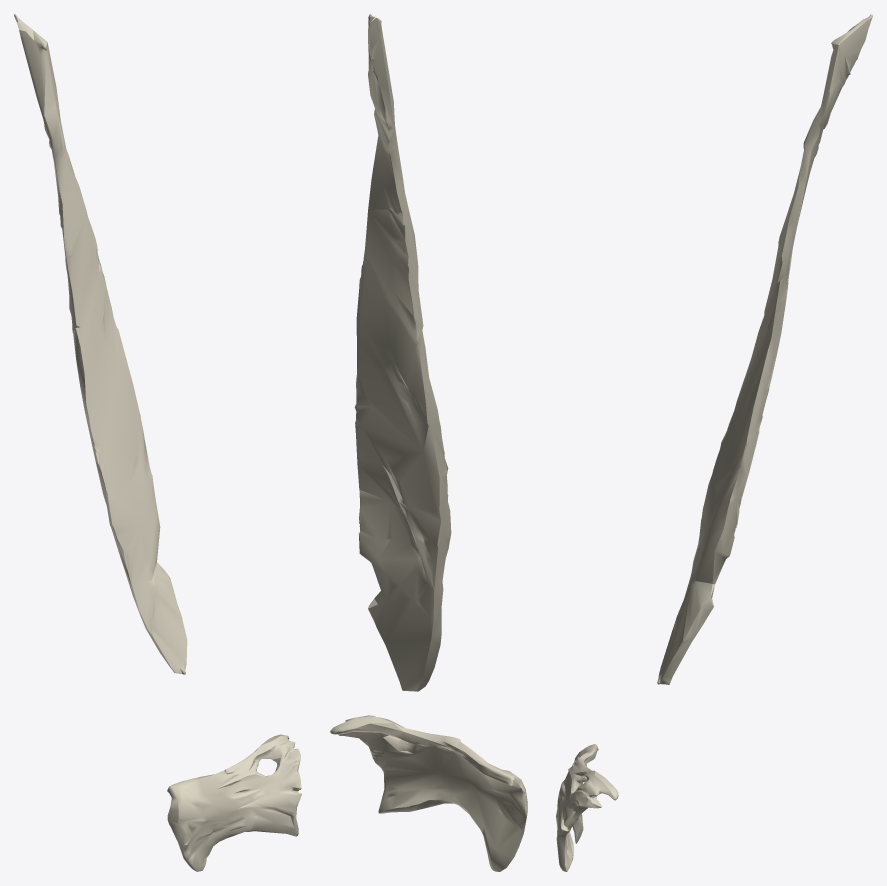
The model's file is joints.upper_limb_left.glb.
3 renders of one model, left to right at view 1: azimuth 30°, elevation 25°; view 2: azimuth 150°, elevation 25°; view 3: azimuth 270°, elevation 25°, orthographic. The views are drawn at different scales.
Visible parts, largest first — view 1: interosseous_membrane_of_left_forearm, flexor_retinaculum_of_left_wrist; view 2: interosseous_membrane_of_left_forearm, flexor_retinaculum_of_left_wrist; view 3: interosseous_membrane_of_left_forearm, flexor_retinaculum_of_left_wrist.
Boxes of the visible parts, x1=… form: interosseous_membrane_of_left_forearm: x1=14, y1=14, x2=187, y2=674; flexor_retinaculum_of_left_wrist: x1=167, y1=734, x2=301, y2=871; interosseous_membrane_of_left_forearm: x1=355, y1=14, x2=451, y2=691; flexor_retinaculum_of_left_wrist: x1=330, y1=715, x2=527, y2=871; interosseous_membrane_of_left_forearm: x1=657, y1=14, x2=872, y2=684; flexor_retinaculum_of_left_wrist: x1=556, y1=744, x2=618, y2=871.
Bounding box in the file's own units: 0.042 × 0.1983 × 0.0707.
